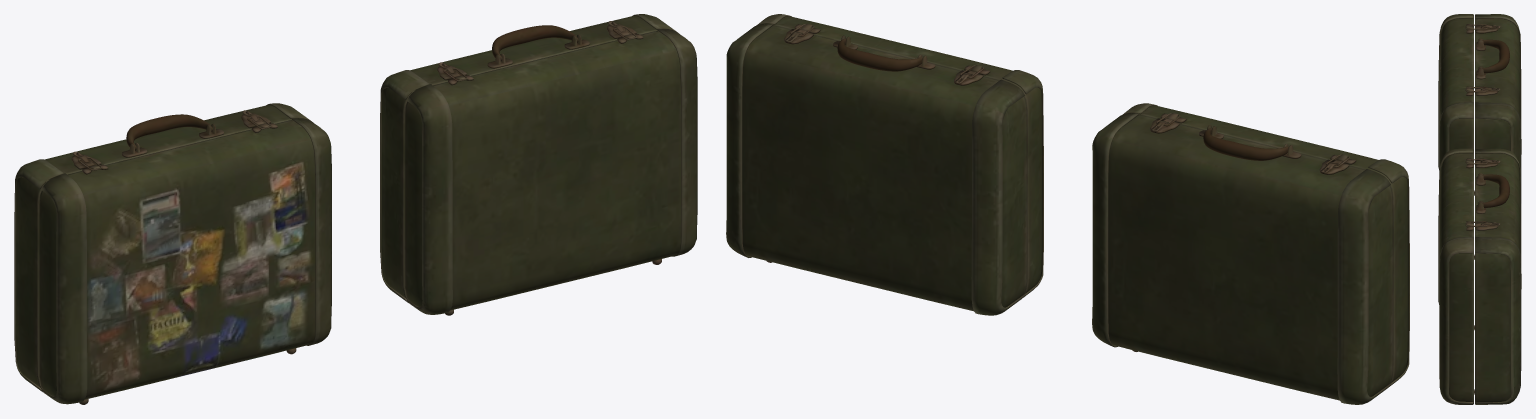
File: vintage_suitcase.glb
3 views of the same model, side by side, from view 1: azimuth 30°, elevation 25°; view 2: azimuth 150°, elevation 25°; view 3: azimuth 270°, elevation 25° (orthographic). The views are drawn at different scales.
Visible parts, largest first — view 1: vintage_suitcase_02_top, vintage_suitcase_01_top, vintage_suitcase_01_bottom, vintage_suitcase_02_bottom, vintage_suitcase_02_handle, vintage_suitcase_01_handle; view 2: vintage_suitcase_01_bottom, vintage_suitcase_02_bottom, vintage_suitcase_01_top, vintage_suitcase_02_top, vintage_suitcase_01_handle, vintage_suitcase_02_handle; view 3: vintage_suitcase_01_bottom, vintage_suitcase_01_top, vintage_suitcase_02_bottom, vintage_suitcase_02_top, vintage_suitcase_02_handle, vintage_suitcase_01_handle, vintage_suitcase_01_clasp, vintage_suitcase_02_clasp.
Boxes of the visible parts, left/top/right/bottom form: vintage_suitcase_02_top: left=38, top=118, right=331, bottom=404; vintage_suitcase_01_top: left=404, top=29, right=697, bottom=315; vintage_suitcase_01_bottom: left=380, top=14, right=677, bottom=302; vintage_suitcase_02_bottom: left=14, top=103, right=313, bottom=392; vintage_suitcase_02_handle: left=126, top=114, right=212, bottom=150; vintage_suitcase_01_handle: left=492, top=25, right=578, bottom=60; vintage_suitcase_01_bottom: left=726, top=24, right=1027, bottom=315; vintage_suitcase_02_bottom: left=1092, top=113, right=1393, bottom=404; vintage_suitcase_01_top: left=756, top=14, right=1043, bottom=297; vintage_suitcase_02_top: left=1122, top=103, right=1409, bottom=386; vintage_suitcase_01_handle: left=837, top=38, right=922, bottom=71; vintage_suitcase_02_handle: left=1203, top=128, right=1288, bottom=160; vintage_suitcase_01_bottom: left=1474, top=148, right=1521, bottom=404; vintage_suitcase_01_top: left=1438, top=148, right=1474, bottom=404; vintage_suitcase_02_bottom: left=1474, top=14, right=1521, bottom=259; vintage_suitcase_02_top: left=1438, top=14, right=1474, bottom=258; vintage_suitcase_02_handle: left=1482, top=39, right=1509, bottom=73; vintage_suitcase_01_handle: left=1482, top=174, right=1509, bottom=207; vintage_suitcase_01_clasp: left=1465, top=159, right=1487, bottom=226; vintage_suitcase_02_clasp: left=1465, top=24, right=1487, bottom=92.
Size of the model in its own units: 1.61 by 0.5679 by 0.2392.
Materials: 2 (2 with a texture image).
